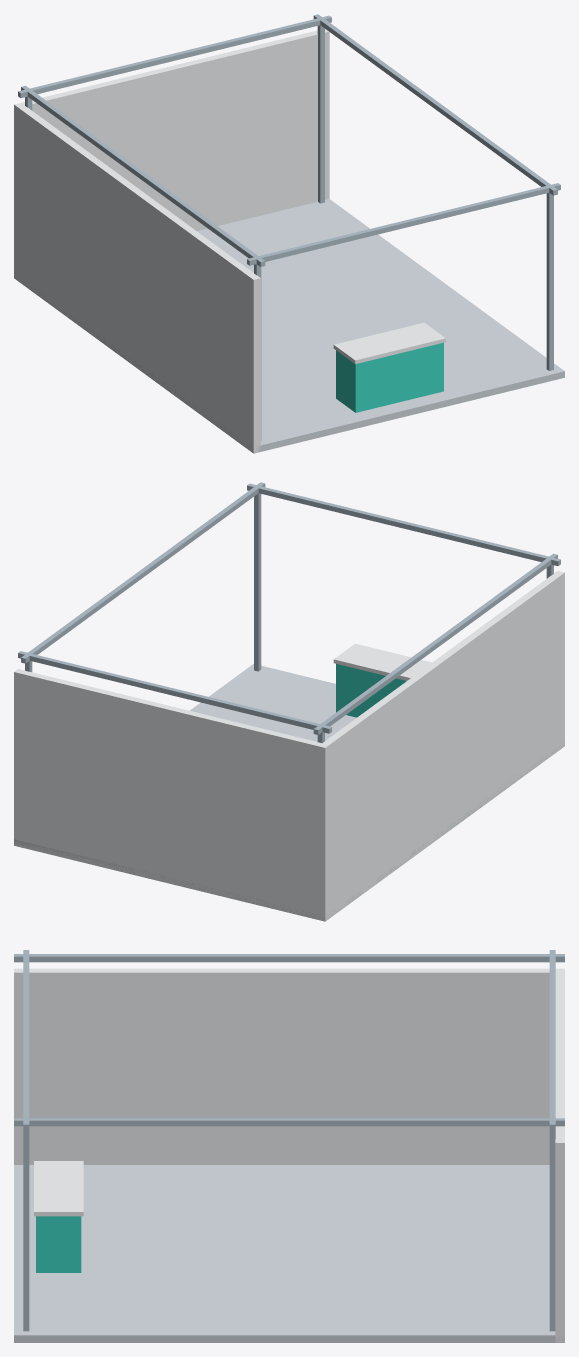
3 views of the same model, one above another, from view 1: azimuth 30°, elevation 25°; view 2: azimuth 150°, elevation 25°; view 3: azimuth 270°, elevation 25° (orthographic). The views are drawn at different scales.
Parts seen in each view (by area): view 1: Exhibition Booth Concept; view 2: Exhibition Booth Concept; view 3: Exhibition Booth Concept.
Part boxes in pixels (<box>): Exhibition Booth Concept: <box>14,14,564,453</box>; Exhibition Booth Concept: <box>14,482,564,921</box>; Exhibition Booth Concept: <box>14,950,564,1342</box>.
Size of the model in its own units: 6 by 3.49 by 8.
